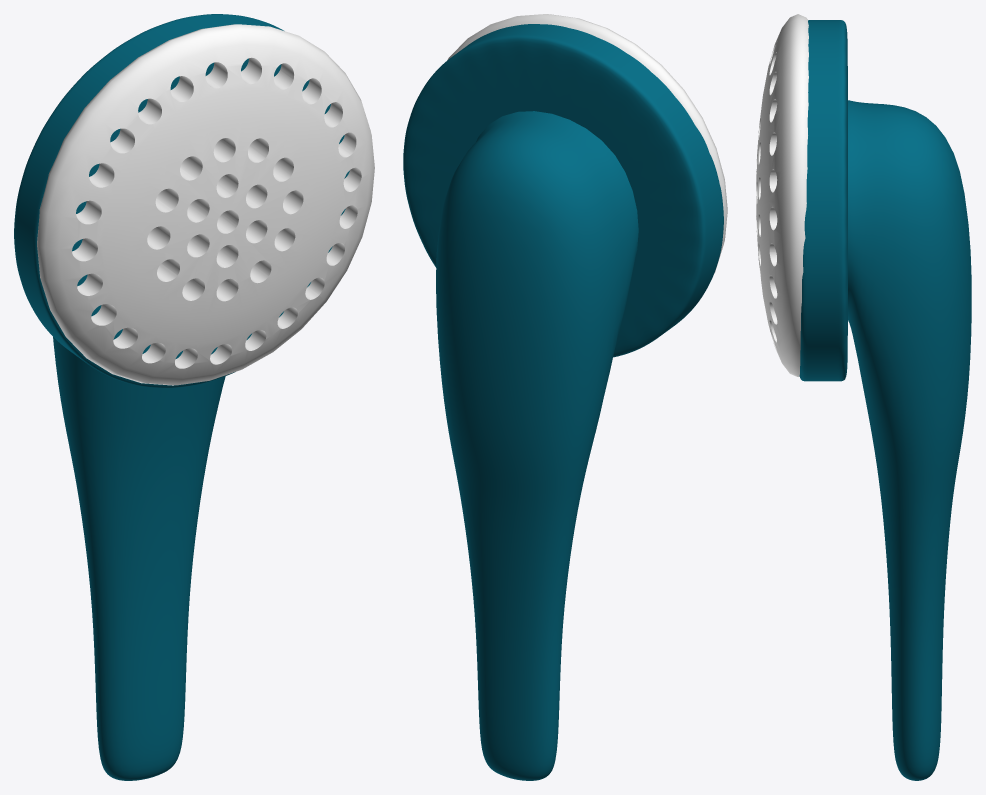
File: ShowerHeadV2.fbx
The picture shows the model from 3 angles, left to right: view 1: azimuth 30°, elevation 25°; view 2: azimuth 150°, elevation 25°; view 3: azimuth 270°, elevation 25°; orthographic projection. The views are drawn at different scales.
Parts seen in each view (by area): view 1: Cube.002, Cube.003; view 2: Cube.003, Cube.002; view 3: Cube.003, Cube.002.
Boxes of the visible parts, x1,y1,x2,y2 form: Cube.002: [37, 24, 374, 385]; Cube.003: [14, 14, 349, 780]; Cube.003: [403, 24, 723, 780]; Cube.002: [447, 14, 727, 273]; Cube.003: [799, 20, 971, 780]; Cube.002: [756, 14, 808, 376].
Bounding box in the file's own units: 200 × 451 × 119.
